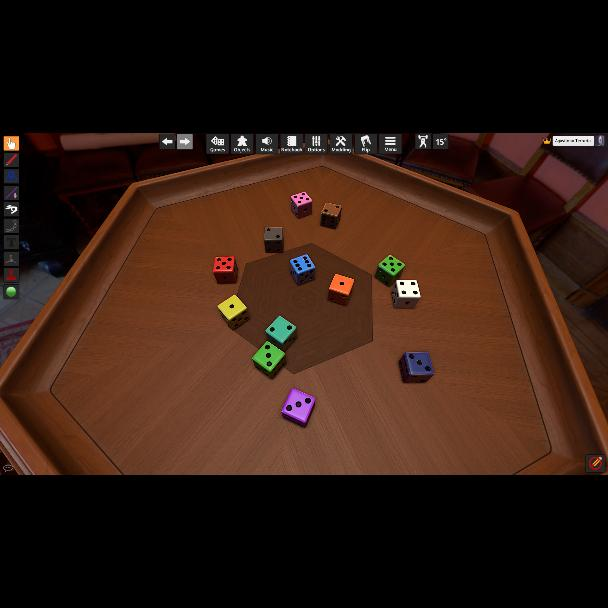d6: (280, 388, 316, 428), (252, 342, 286, 378), (264, 316, 296, 352), (216, 294, 248, 328), (400, 352, 432, 382), (390, 280, 422, 310), (328, 274, 354, 306), (376, 256, 402, 288), (289, 254, 315, 286), (213, 256, 238, 284), (290, 192, 312, 220), (319, 203, 341, 230), (264, 227, 284, 253)
